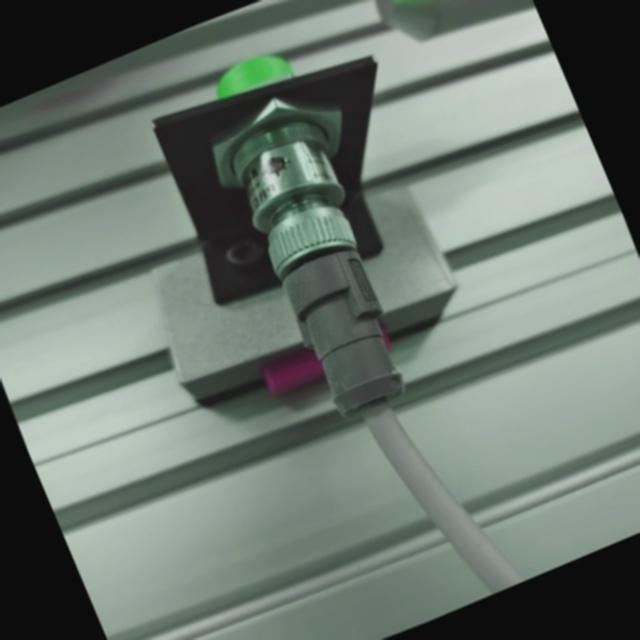inductive sensor: (49, 0, 520, 488)
